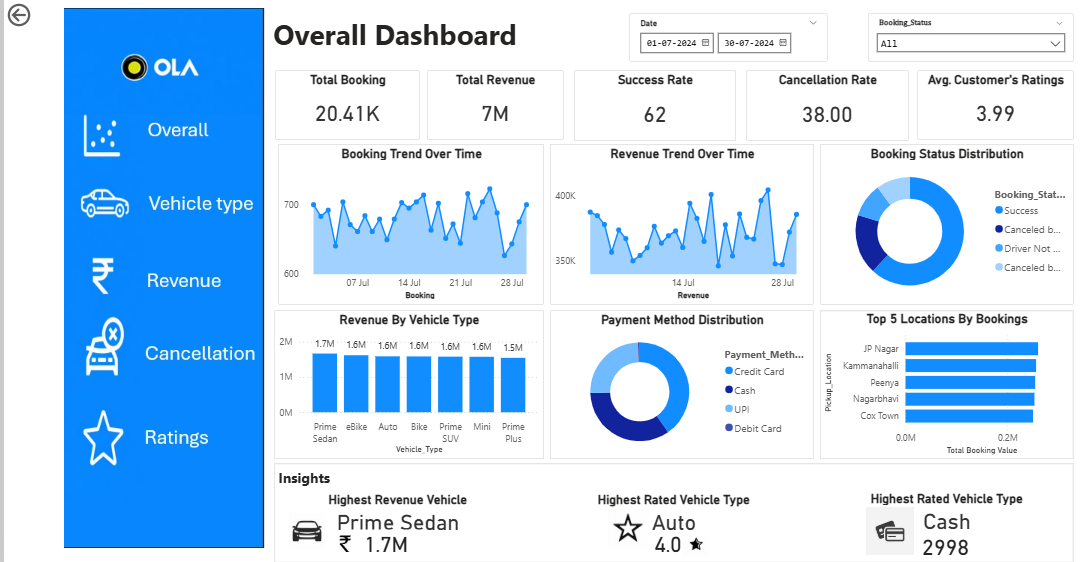

The dashboard page shown, as its layout file describes it:
{"tool":"powerbi","page":{"name":"overall","canvas":[1440,750],"ordinal":0},"visuals":[{"type":"actionButton","box":[76,316,262,90],"z":0},{"type":"actionButton","box":[76,410,262,134],"z":1000},{"type":"actionButton","box":[76,530,262,190],"z":2000},{"type":"actionButton","box":[76,228,262,88],"z":3000},{"type":"lineChart","title":"Revenue Trend Over Time","fields":{"Category":["Sheet1.Date.Variation.Date Hierarchy.Year","Sheet1.Date.Variation.Date Hierarchy.Quarter","Sheet1.Date.Variation.Date Hierarchy.Month","Sheet1.Date.Variation.Date Hierarchy.Day"],"Y":["Sheet1.Total Booking Value"]},"box":[728,192,352,214],"z":4000},{"type":"donutChart","title":"Payment Method Distribution","fields":{"Category":["Sheet1.Payment_Method"],"Y":["Sum(Sheet1.Booking_Value)"]},"box":[728,414,352,198],"z":5000},{"type":"slicer","fields":{"Values":["July.Date"]},"box":[834,18,264,64],"z":6000},{"type":"card","title":"Total Booking","fields":{"Values":["CountNonNull(July.Booking_ID)"]},"box":[362,94,192,92],"z":7000},{"type":"card","title":"Total Revenue","fields":{"Values":["Sum(July.Booking_Value)"]},"box":[564,94,182,92],"z":8000},{"type":"slicer","fields":{"Values":["July.Booking_Status"]},"box":[1152,18,274,64],"z":9000},{"type":"actionButton","box":[0,0,100,40],"z":10000},{"type":"card","title":"Avg. Customer''s Ratings","fields":{"Values":["Avg(July.Customer_Rating)"]},"box":[1218,94,208,92],"z":11000},{"type":"clusteredColumnChart","title":"Revenue By Vehicle Type","fields":{"Category":["Sheet1.Vehicle_Type"],"Y":["Sheet1.Total Booking Value"]},"box":[360,414,360,198],"z":12000},{"type":"card","title":"Success Rate","fields":{"Values":["July.Sum of Booking_Value for Success 2 divided by Sum of Booking_Value"]},"box":[760,94,216,94],"z":13000},{"type":"card","title":"Cancellation Rate ","fields":{"Values":["July.Cancellation Rate %"]},"box":[990,94,216,94],"z":14000},{"type":"lineChart","title":"Booking Trend Over Time","fields":{"Category":["Sheet1.Date.Variation.Date Hierarchy.Year","Sheet1.Date.Variation.Date Hierarchy.Quarter","Sheet1.Date.Variation.Date Hierarchy.Month","Sheet1.Date.Variation.Date Hierarchy.Day"],"Y":["CountNonNull(Sheet1.Booking_ID)"]},"box":[366,192,354,214],"z":15000},{"type":"donutChart","title":"Booking Status Distribution","fields":{"Category":["Sheet1.Booking_Status"],"Y":["Sum(Sheet1.Booking_Value)"]},"box":[1088,192,338,214],"z":16000},{"type":"clusteredBarChart","title":"Top 5 Locations By Bookings","fields":{"Category":["Sheet1.Pickup_Location"],"Y":["Sheet1.Total Booking Value"]},"box":[1088,414,338,198],"z":17000},{"type":"textbox","box":[354,14,416,70],"z":18000},{"type":"textbox","box":[360,618,1066,132],"z":19000},{"type":"card","title":"Highest Revenue Vehicle","fields":{"Values":["Min(Sheet1.Vehicle_Type)"]},"box":[426,656,198,56],"z":20000},{"type":"card","fields":{"Values":["Sheet1.Total Booking Value"]},"box":[456,706,106,36],"z":21000},{"type":"image","box":[432,714,46,22],"z":22000},{"type":"image","box":[366,684,76,48],"z":23000},{"type":"card","fields":{"Values":["Avg(Sheet1.Customer_Rating)"]},"box":[832,706,106,36],"z":24000},{"type":"image","box":[902,708,42,34],"z":25000},{"type":"card","title":"Highest Rated Vehicle Type","fields":{"Values":["Min(Sheet1.Vehicle_Type)"]},"box":[780,656,226,58],"z":26000},{"type":"image","box":[806,656,52,94],"z":27000},{"type":"card","title":"Highest Rated Vehicle Type","fields":{"Values":["Min(Sheet1.Payment_Method)"]},"box":[1144,654,226,58],"z":28000},{"type":"card","fields":{"Values":["Max(Sheet1.Booking_Value)"]},"box":[1202,710,106,36],"z":29000},{"type":"image","box":[1144,676,74,64],"z":30000}]}

Visuals, with their boxes on the page's 1440x750 design canvas (x1, y1, x2, y2). These are canvas units, not pixel positions in the 1082x562 screenshot, which may show the page scaled, cropped or inside an application window:
actionButton: bbox=[76, 316, 338, 406]
actionButton: bbox=[76, 410, 338, 544]
actionButton: bbox=[76, 530, 338, 720]
actionButton: bbox=[76, 228, 338, 316]
"Revenue Trend Over Time" lineChart: bbox=[728, 192, 1080, 406]
"Payment Method Distribution" donutChart: bbox=[728, 414, 1080, 612]
slicer - July.Date: bbox=[834, 18, 1098, 82]
"Total Booking" card: bbox=[362, 94, 554, 186]
"Total Revenue" card: bbox=[564, 94, 746, 186]
slicer - July.Booking_Status: bbox=[1152, 18, 1426, 82]
actionButton: bbox=[0, 0, 100, 40]
"Avg. Customer''s Ratings" card: bbox=[1218, 94, 1426, 186]
"Revenue By Vehicle Type" clusteredColumnChart: bbox=[360, 414, 720, 612]
"Success Rate" card: bbox=[760, 94, 976, 188]
"Cancellation Rate " card: bbox=[990, 94, 1206, 188]
"Booking Trend Over Time" lineChart: bbox=[366, 192, 720, 406]
"Booking Status Distribution" donutChart: bbox=[1088, 192, 1426, 406]
"Top 5 Locations By Bookings" clusteredBarChart: bbox=[1088, 414, 1426, 612]
textbox: bbox=[354, 14, 770, 84]
textbox: bbox=[360, 618, 1426, 750]
"Highest Revenue Vehicle" card: bbox=[426, 656, 624, 712]
card - Sheet1.Total Booking Value: bbox=[456, 706, 562, 742]
image: bbox=[432, 714, 478, 736]
image: bbox=[366, 684, 442, 732]
card - Avg(Sheet1.Customer_Rating): bbox=[832, 706, 938, 742]
image: bbox=[902, 708, 944, 742]
"Highest Rated Vehicle Type" card: bbox=[780, 656, 1006, 714]
image: bbox=[806, 656, 858, 750]
"Highest Rated Vehicle Type" card: bbox=[1144, 654, 1370, 712]
card - Max(Sheet1.Booking_Value): bbox=[1202, 710, 1308, 746]
image: bbox=[1144, 676, 1218, 740]
